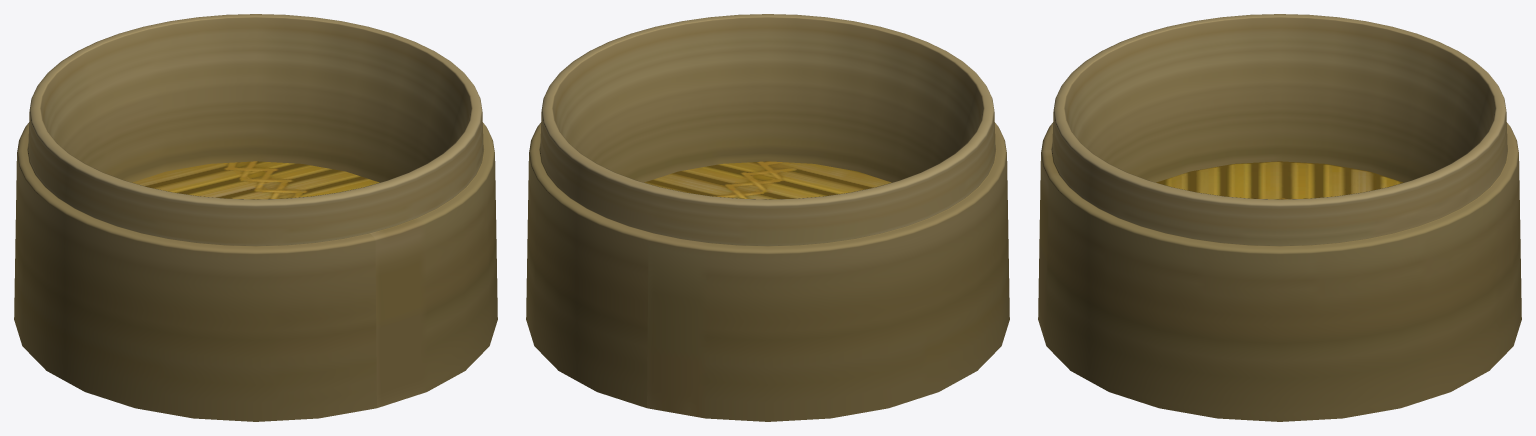
Rendered from scene_breakfast.glb.
3 renders of one model, left to right at view 1: azimuth 30°, elevation 25°; view 2: azimuth 150°, elevation 25°; view 3: azimuth 270°, elevation 25°, orthographic.
Parts seen in each view (by area): view 1: scene_breakfast_part0, scene_breakfast_part1; view 2: scene_breakfast_part0, scene_breakfast_part1; view 3: scene_breakfast_part0, scene_breakfast_part1.
Boxes of the visible parts, <box> form: scene_breakfast_part0: <box>14,14,497,421</box>; scene_breakfast_part1: <box>132,161,379,199</box>; scene_breakfast_part0: <box>526,14,1009,421</box>; scene_breakfast_part1: <box>644,161,891,199</box>; scene_breakfast_part0: <box>1038,14,1521,421</box>; scene_breakfast_part1: <box>1156,161,1403,199</box>.
Size of the model in its own units: 1 by 0.4835 by 1.
Materials: 2 (2 with a texture image).
